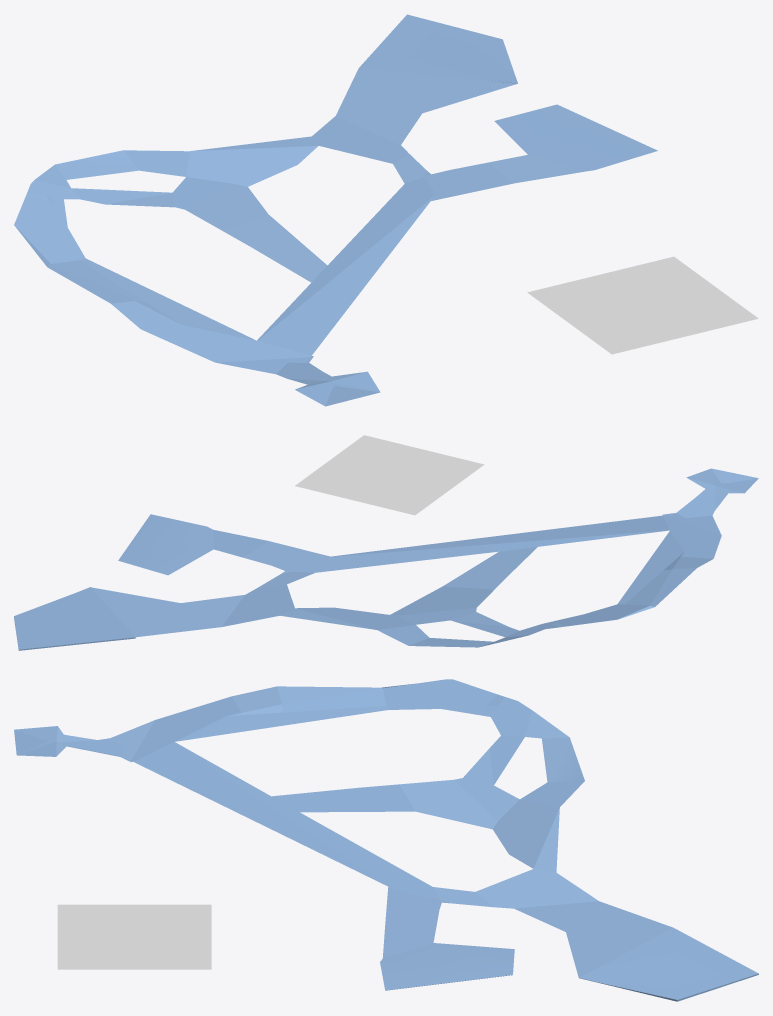
Rendered from navmesh1.glb.
3 renders of one model, top to bottom at view 1: azimuth 30°, elevation 25°; view 2: azimuth 150°, elevation 25°; view 3: azimuth 270°, elevation 25°, orthographic. The views are drawn at different scales.
Parts seen in each view (by area): view 1: Cube, Plane; view 2: Cube, Plane; view 3: Cube, Plane.
Part boxes in pixels (x1,y1,x2,y2): Cube: (14, 14, 657, 406); Plane: (527, 256, 758, 354); Cube: (14, 468, 758, 650); Plane: (295, 435, 484, 515); Cube: (14, 679, 758, 1001); Plane: (57, 904, 211, 969).
Bounding box in the file's own units: 422 × 42.23 × 486.
